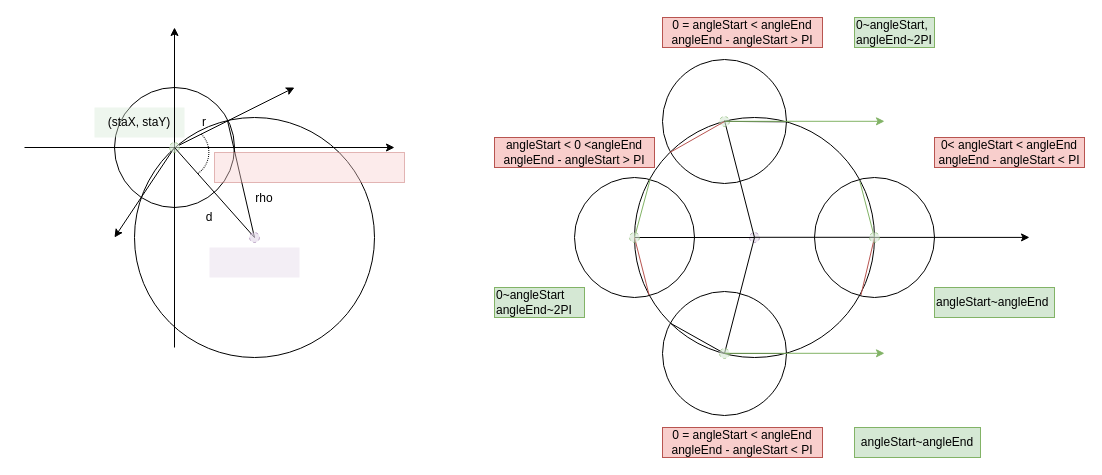
Image size: 1102x475. Some labels were removed from this diagram. The centre of each missing label's shape, as x and y in pixels:
"(apX, apY)" belongs at (x=254, y=262).
"α = arccos((r 2 +d 2 - rho 2 )/2dr)" belongs at (x=309, y=167).
